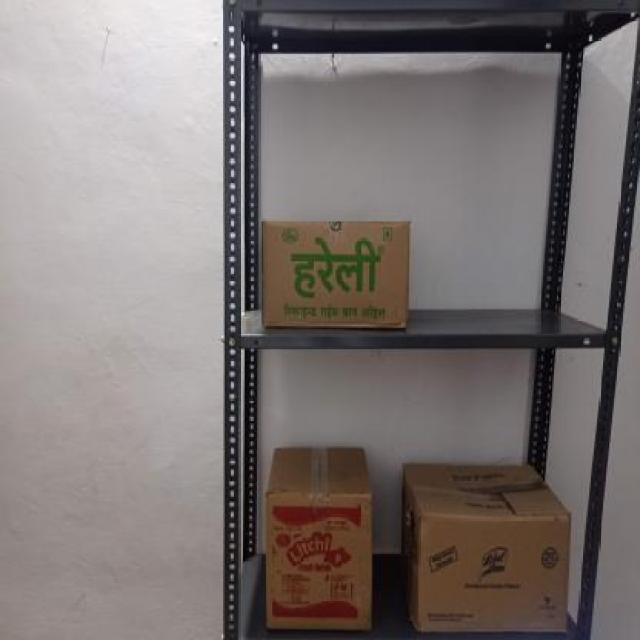box: (414, 513, 574, 630), (257, 222, 411, 330), (266, 492, 372, 630)
